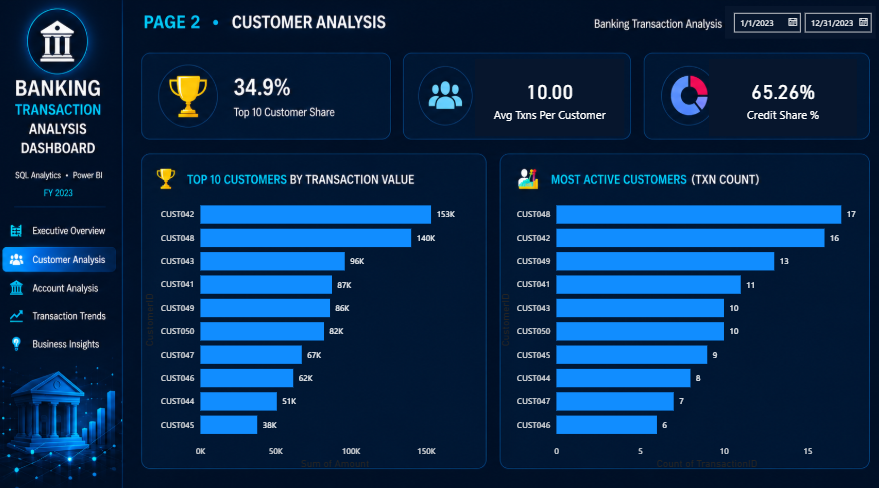

What the dashboard file says about the page in this screenshot:
{"tool":"powerbi","page":{"name":"Page 2","canvas":[1280,720],"ordinal":1},"visuals":[{"type":"card","fields":{"Values":["banking_transactions.Credit Share %"]},"box":[1024.7,89,213.3,110.9],"z":0},{"type":"card","fields":{"Values":["banking_transactions.Avg Txns Per Customer"]},"box":[688.7,89,215,110.9],"z":1000},{"type":"clusteredBarChart","fields":{"Category":["banking_transactions.CustomerID"],"Y":["Sum(banking_transactions.Amount)"]},"box":[206.6,273.8,493.9,411.5],"z":2000},{"type":"clusteredBarChart","fields":{"Category":["banking_transactions.CustomerID"],"Y":["CountNonNull(banking_transactions.TransactionID)"]},"box":[719,273.8,532.5,411.5],"z":3000},{"type":"slicer","fields":{"Values":["banking_transactions.TransactionDate"]},"box":[1048.2,13.4,216.7,47],"z":4000},{"type":"actionButton","box":[15.1,441.8,152.9,38.6],"z":5000},{"type":"actionButton","box":[15.1,398.1,151.2,38.6],"z":6000},{"type":"actionButton","box":[15.1,320.8,151.2,38.6],"z":7000},{"type":"actionButton","box":[15.7,468.6,151.4,38.6],"z":8000}]}

Visuals, with their boxes in screenshot pixels (x1, y1, x2, y2), scaled from the page's 1280x720 canvas onto the 879x488 screenshot:
card - banking_transactions.Credit Share %: Rect(704, 60, 850, 135)
card - banking_transactions.Avg Txns Per Customer: Rect(473, 60, 621, 135)
clusteredBarChart - banking_transactions.CustomerID x Sum(banking_transactions.Amount): Rect(142, 186, 481, 464)
clusteredBarChart - banking_transactions.CustomerID x CountNonNull(banking_transactions.TransactionID): Rect(494, 186, 859, 464)
slicer - banking_transactions.TransactionDate: Rect(720, 9, 869, 41)
actionButton: Rect(10, 299, 115, 326)
actionButton: Rect(10, 270, 114, 296)
actionButton: Rect(10, 217, 114, 244)
actionButton: Rect(11, 318, 115, 344)
